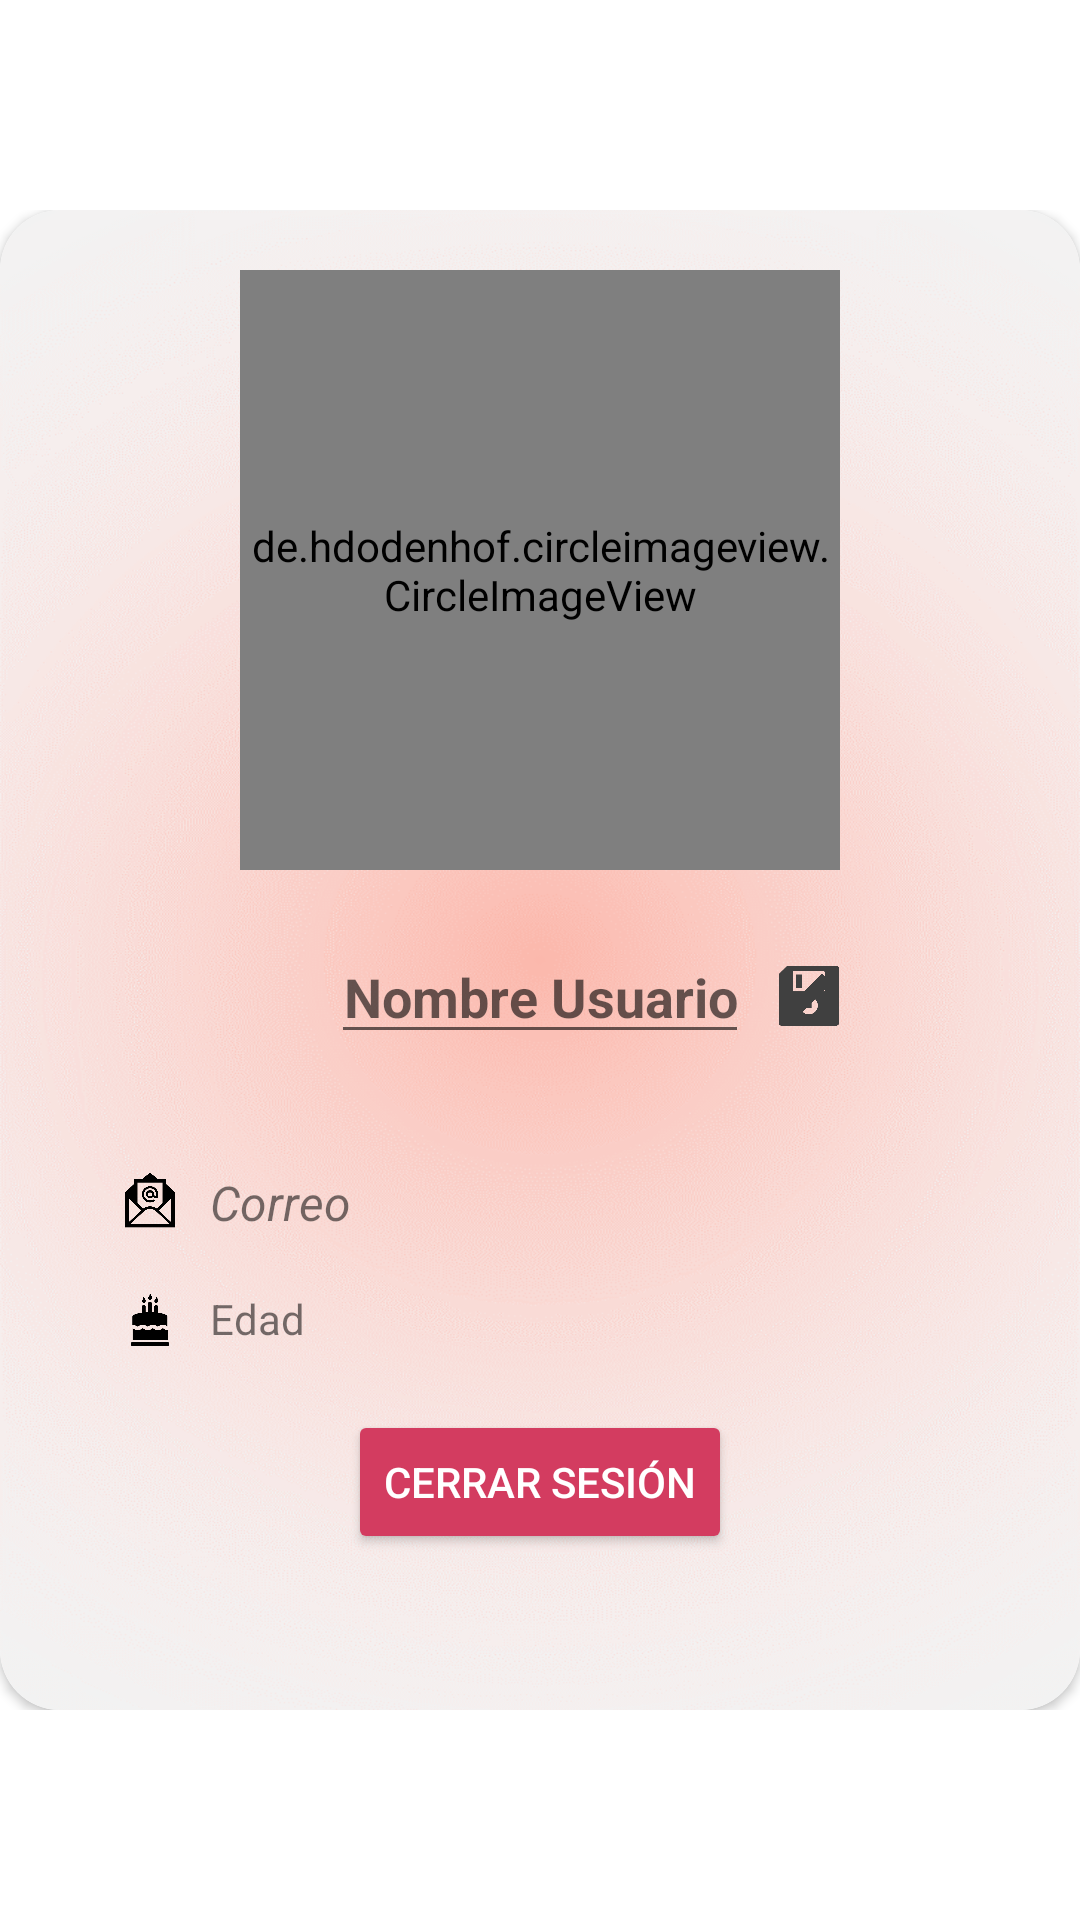

Named icons in this screenshot (1080px×1920px) and their bounding boxes, (x1, y1, x2, y2):
cumple: (131, 1294, 169, 1346)
